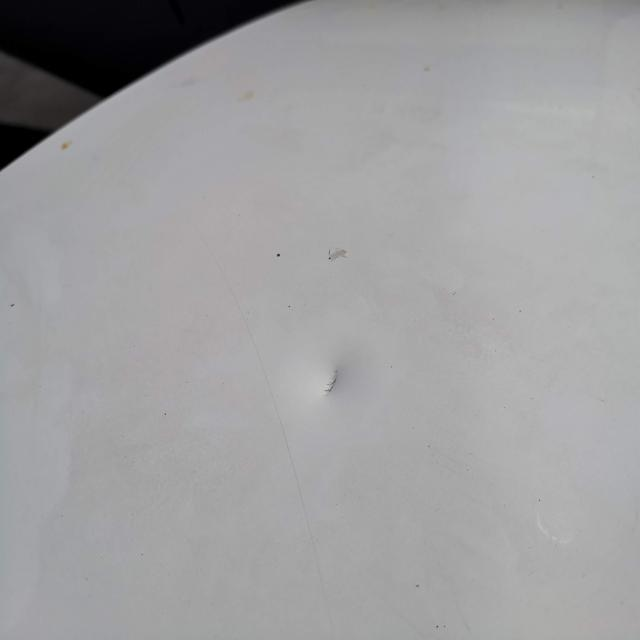dent: (269, 317, 386, 437)
